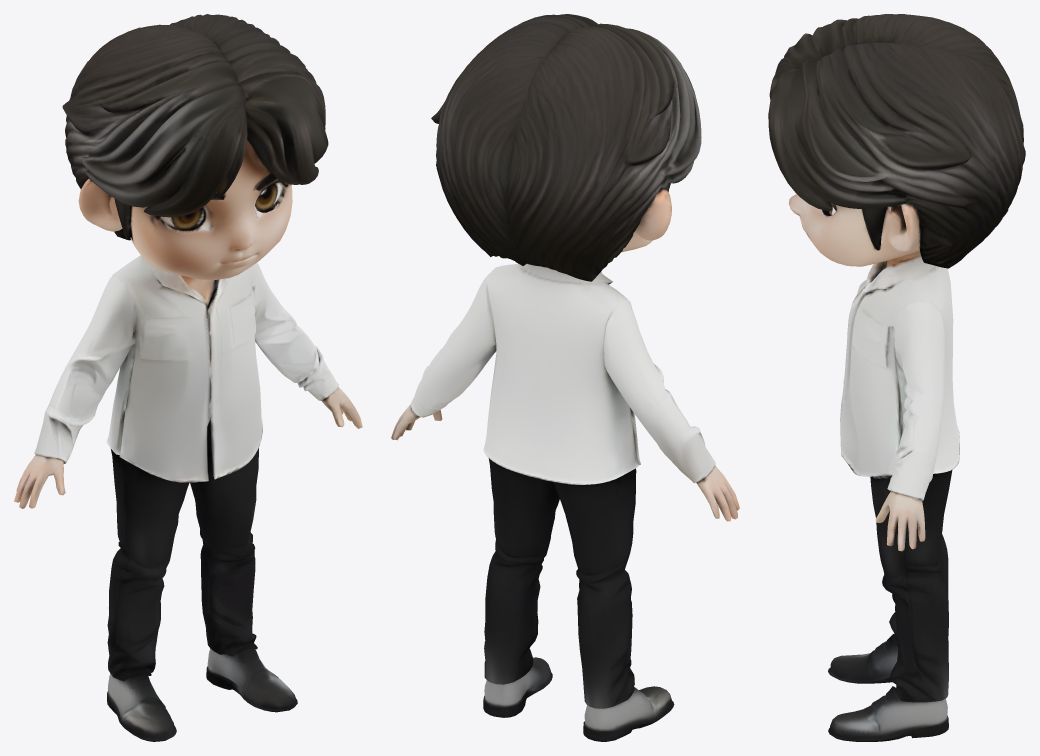
Rendered from base_basic_shaded.fbx.
The picture shows the model from 3 angles, left to right: view 1: azimuth 30°, elevation 25°; view 2: azimuth 150°, elevation 25°; view 3: azimuth 270°, elevation 25°; orthographic projection.
Visible parts, largest first — view 1: model; view 2: model; view 3: model.
Boxes of the visible parts, x1,y1,x2,y2 form: model: [14, 14, 362, 741]; model: [391, 14, 739, 741]; model: [768, 14, 1025, 741].
Size of the model in its own units: 91.21 by 173 by 59.24.
